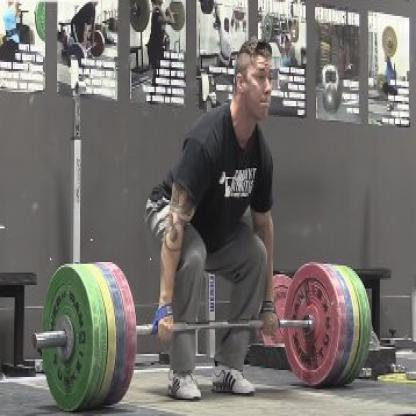barbell: (31, 262, 373, 410)
